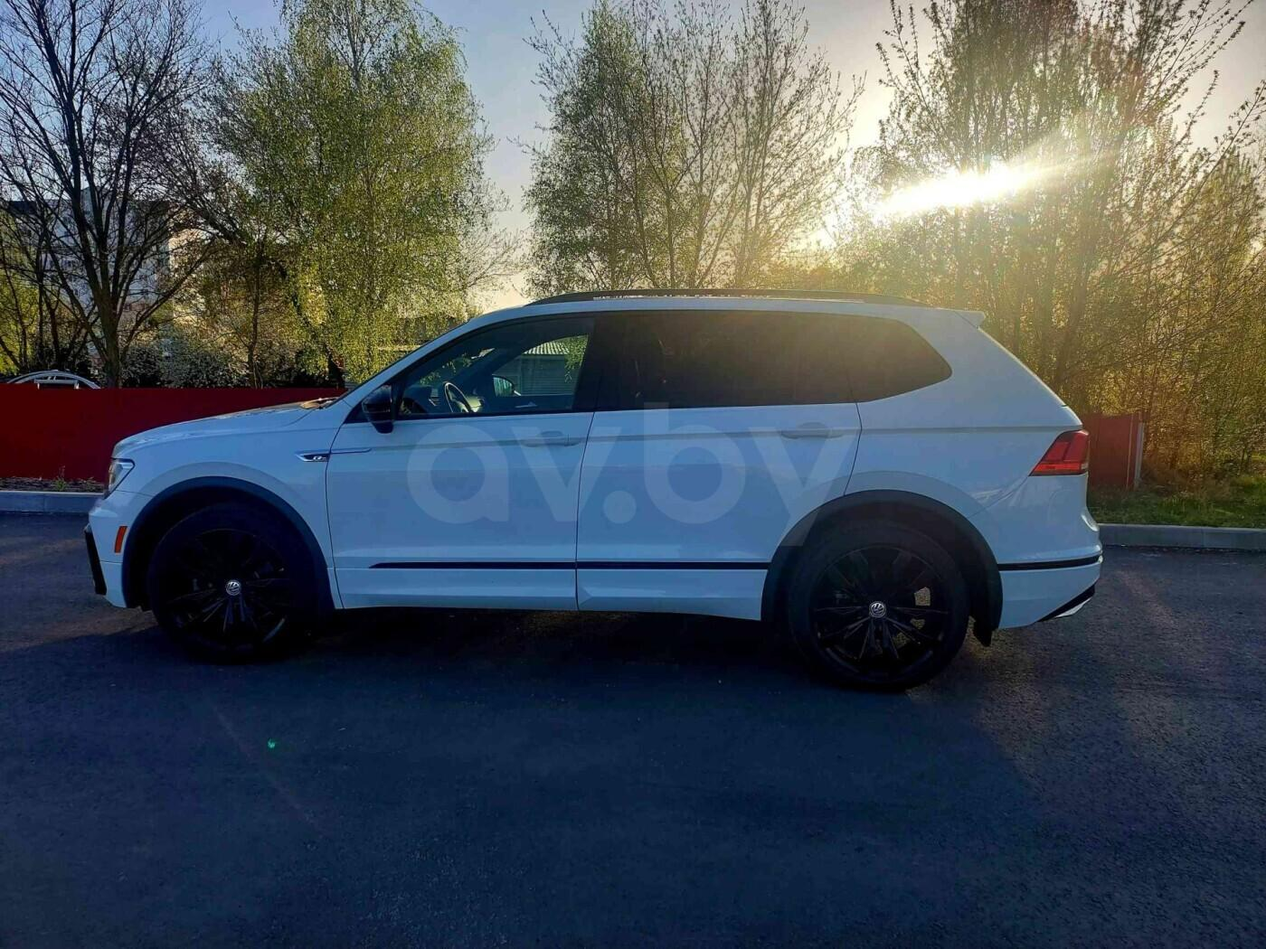Tiguan_2016-2021: (79, 291, 1111, 692)
